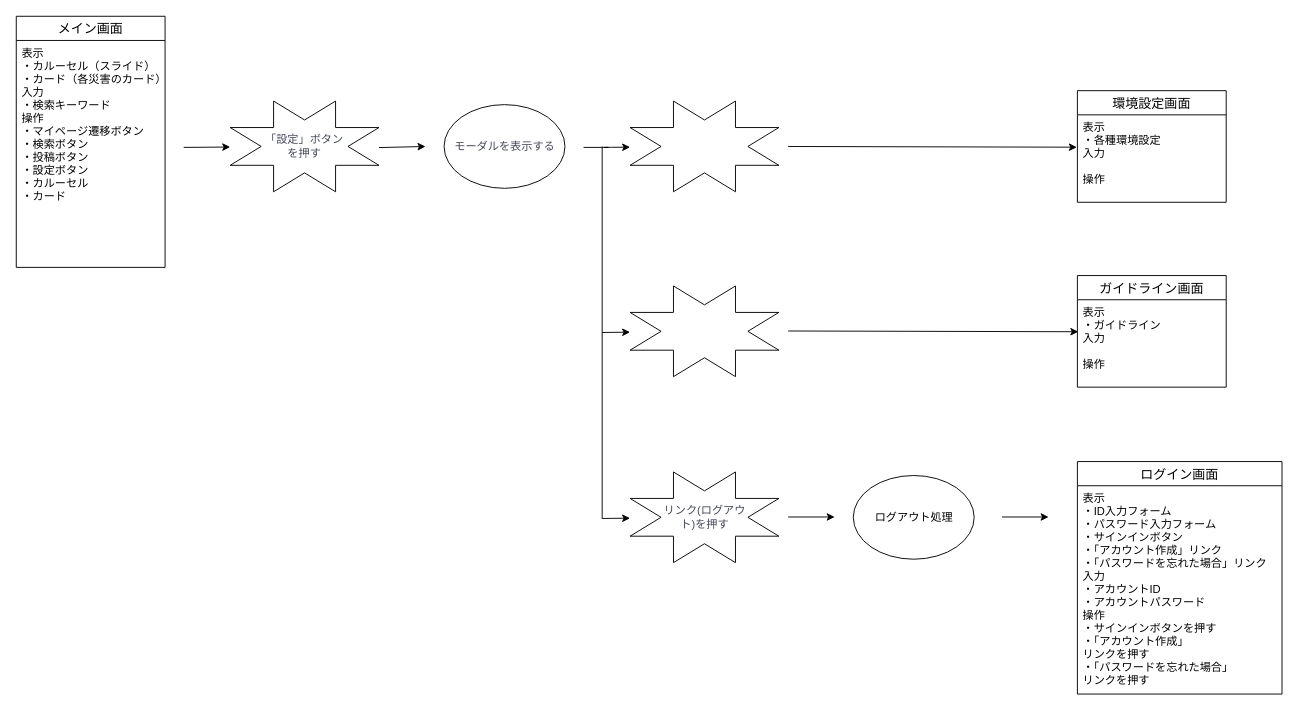
Image size: 1298x713. Some labels were removed from this diagram. The centre of each missing label's shape, as x and y in pixels:
"リンク(ガイドライン)を押す" goes at (704,331).
"リンク(環境設定)を押す" goes at (704,146).
